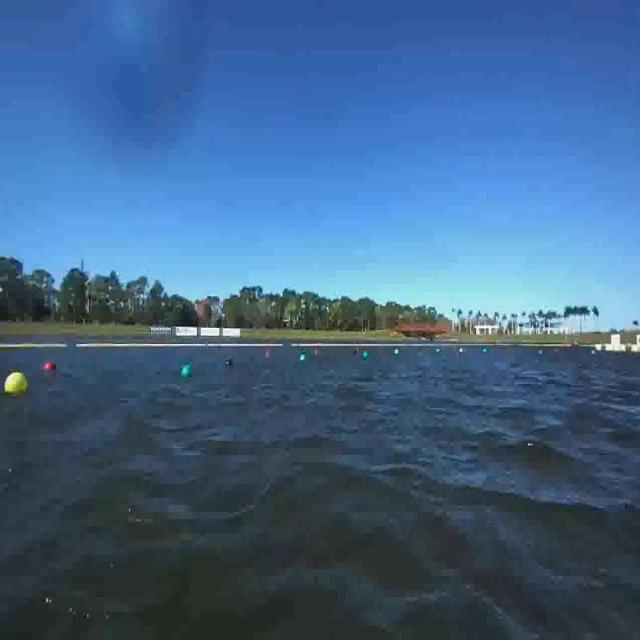green-buoy: (183, 365, 193, 382)
red-buoy: (44, 362, 56, 370)
yellow-buoy: (4, 371, 28, 394)
